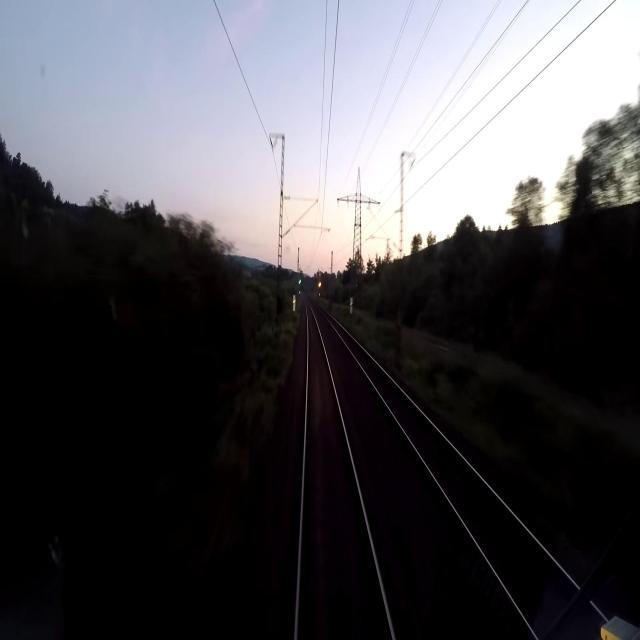rail-track: (324, 312, 569, 609), (298, 304, 391, 639)
